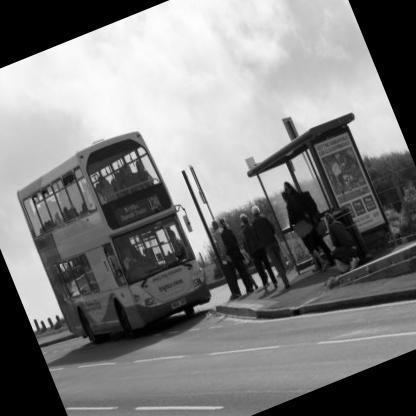bus: (1, 117, 230, 362)
